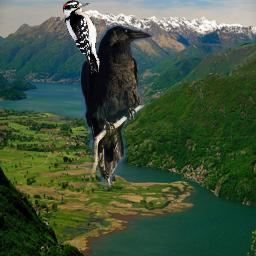Crow: (80, 25, 153, 189)
Woodpecker: (63, 0, 100, 74)
